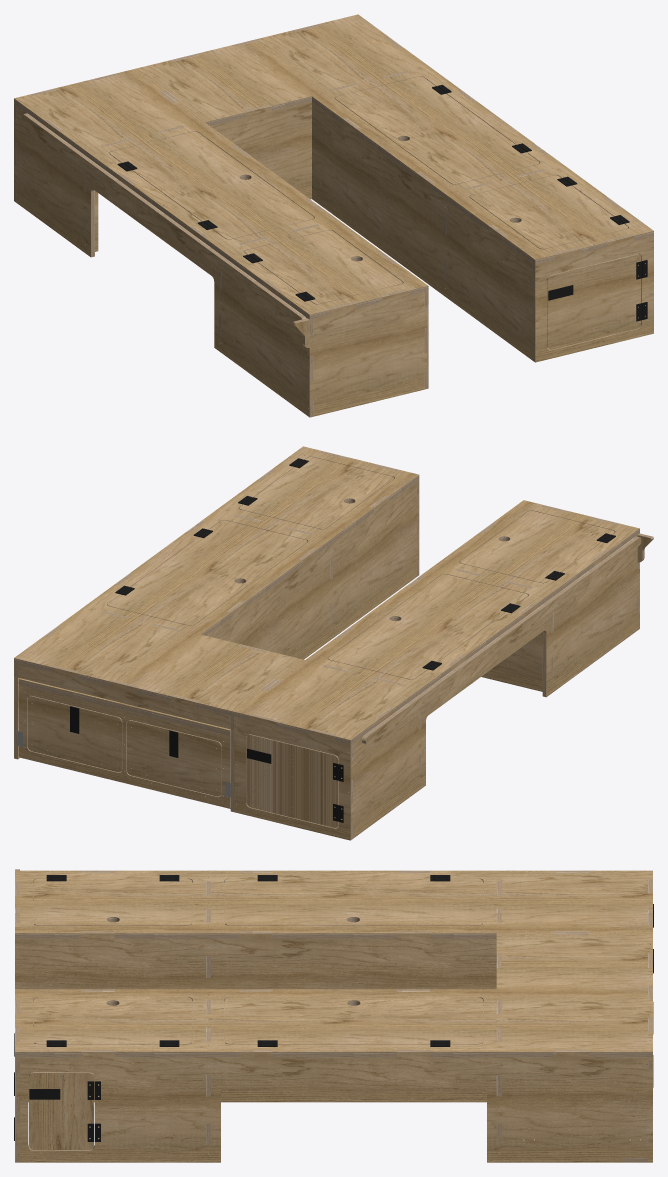
Rendered from lounge-bed-birch.glb.
3 views of the same model, one above another, from view 1: azimuth 30°, elevation 25°; view 2: azimuth 150°, elevation 25°; view 3: azimuth 270°, elevation 25° (orthographic). The views are drawn at different scales.
Parts seen in each view (by area): view 1: ボディ49 (1)_1, ボディ151_1, ボディ169_1, ボディ48 (1)_1, ボディ173_1, ボディ46 (1)_1, ボディ45 (1)_1, 扉_1, ボディ44 (1)_1, ボディ47 (1)_1, ボディ163_1, ボディ156_1 (+7 smaller); view 2: ボディ49 (1)_1, ボディ169_1, ボディ48 (1)_1, ボディ151_1, ボディ46 (1)_1, ボディ45 (1)_1, 扉 (2)_1, ボディ44 (1)_1, ボディ47 (1)_1, ボディ30 (1)_1, ボディ29 (1)_1, ボディ32 (1)_1 (+11 smaller); view 3: ボディ159_1, ボディ49 (1)_1, ボディ165_1, ボディ48 (1)_1, ボディ45 (1)_1, ボディ46 (1)_1, ボディ47 (1)_1, ボディ44 (1)_1, 扉 (1)_1, ボディ151_1, ボディ49 (1)_0, ボディ48 (1)_0 (+2 smaller).
Boxes of the visible parts, left/top/right/bottom form: ボディ49 (1)_1: left=133, top=14, right=653, bottom=259; ボディ151_1: left=312, top=101, right=534, bottom=360; ボディ169_1: left=14, top=105, right=309, bottom=417; ボディ48 (1)_1: left=14, top=69, right=427, bottom=314; ボディ173_1: left=309, top=291, right=427, bottom=416; ボディ46 (1)_1: left=335, top=76, right=539, bottom=183; ボディ45 (1)_1: left=110, top=131, right=313, bottom=238; 扉_1: left=547, top=254, right=641, bottom=349; ボディ44 (1)_1: left=470, top=175, right=627, bottom=248; ボディ47 (1)_1: left=244, top=230, right=402, bottom=303; ボディ163_1: left=210, top=101, right=311, bottom=199; ボディ156_1: left=535, top=236, right=653, bottom=362; ボディ49 (1)_1: left=14, top=446, right=418, bottom=711; ボディ169_1: left=351, top=535, right=639, bottom=838; ボディ48 (1)_1: left=235, top=500, right=639, bottom=739; ボディ151_1: left=206, top=481, right=418, bottom=659; ボディ46 (1)_1: left=108, top=520, right=307, bottom=625; ボディ45 (1)_1: left=328, top=574, right=527, bottom=679; 扉 (2)_1: left=246, top=735, right=338, bottom=827; ボディ44 (1)_1: left=239, top=457, right=393, bottom=528; ボディ47 (1)_1: left=460, top=510, right=614, bottom=582; ボディ30 (1)_1: left=127, top=720, right=221, bottom=796; ボディ29 (1)_1: left=27, top=696, right=121, bottom=772; ボディ32 (1)_1: left=19, top=684, right=229, bottom=808; ボディ159_1: left=16, top=1052, right=652, bottom=1162; ボディ49 (1)_1: left=15, top=933, right=652, bottom=1051; ボディ165_1: left=15, top=933, right=496, bottom=989; ボディ48 (1)_1: left=15, top=870, right=652, bottom=933; ボディ45 (1)_1: left=225, top=878, right=482, bottom=925; ボディ46 (1)_1: left=225, top=997, right=482, bottom=1043; ボディ47 (1)_1: left=34, top=878, right=191, bottom=925; ボディ44 (1)_1: left=34, top=997, right=191, bottom=1043; 扉 (1)_1: left=29, top=1073, right=93, bottom=1149; ボディ151_1: left=28, top=1005, right=486, bottom=1102; ボディ49 (1)_0: left=15, top=934, right=652, bottom=1057; ボディ48 (1)_0: left=15, top=871, right=650, bottom=938.
Bounding box in the file's own units: 1.35 × 0.371 × 1.93.
Materials: 5 (3 with a texture image).
